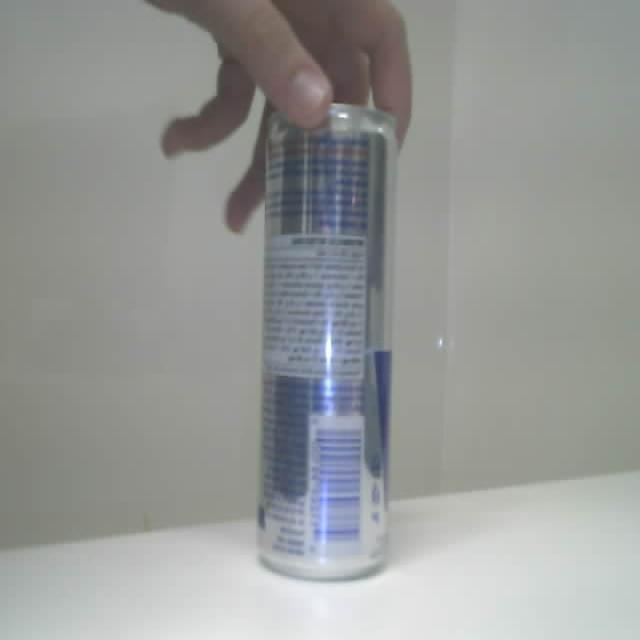redbull can: (258, 104, 396, 578)
